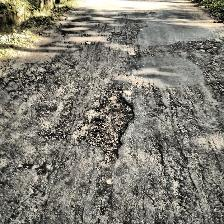pothole: (74, 82, 136, 164)
